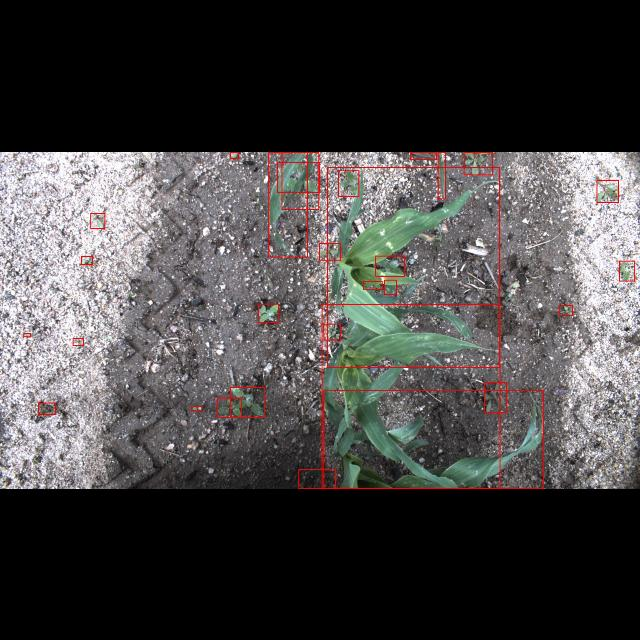crop: (328, 167, 500, 367), (322, 304, 500, 488), (323, 389, 542, 488), (268, 152, 308, 256), (282, 152, 318, 208), (298, 469, 336, 488), (438, 152, 446, 198), (410, 152, 436, 158)
weed: (278, 162, 320, 192), (230, 387, 264, 417), (484, 382, 506, 412), (376, 254, 404, 276), (464, 152, 492, 174), (596, 178, 618, 202), (339, 170, 359, 196), (217, 397, 241, 417), (258, 304, 278, 322), (320, 242, 340, 260), (619, 260, 635, 280), (324, 323, 341, 339), (91, 212, 105, 228), (38, 402, 56, 413), (384, 278, 396, 294), (363, 281, 382, 289), (559, 305, 573, 315), (81, 256, 92, 264), (73, 338, 83, 344), (230, 151, 238, 157), (192, 406, 202, 410), (24, 334, 31, 336)
